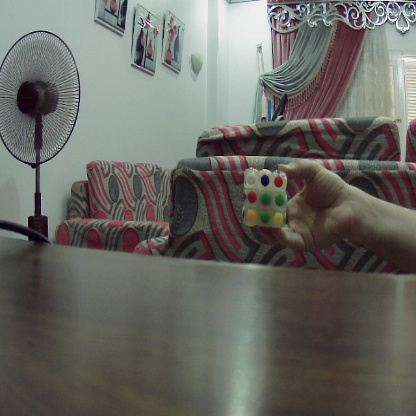Rubix Cube: (243, 168, 287, 228)
